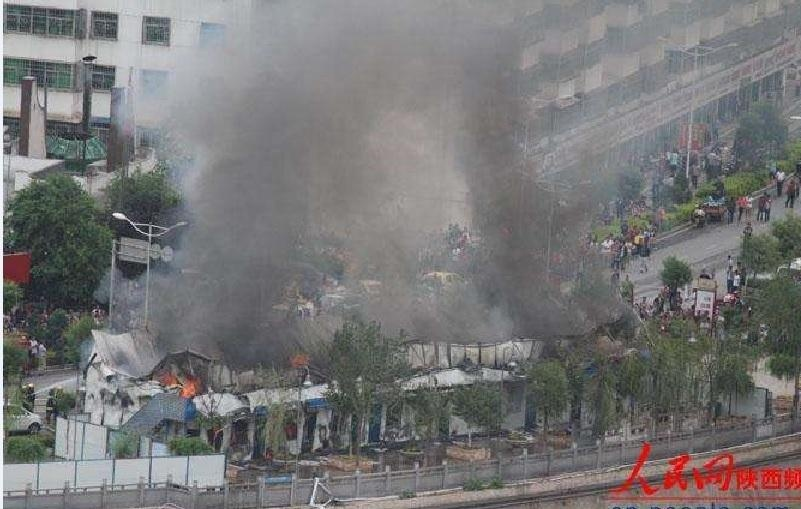fire: (160, 369, 203, 396)
